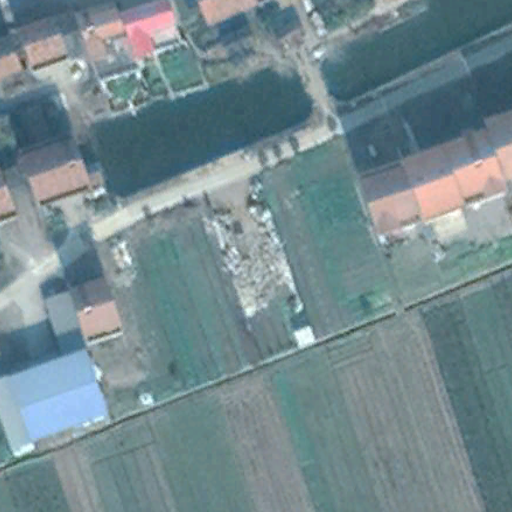msw: (207, 206, 305, 320)
